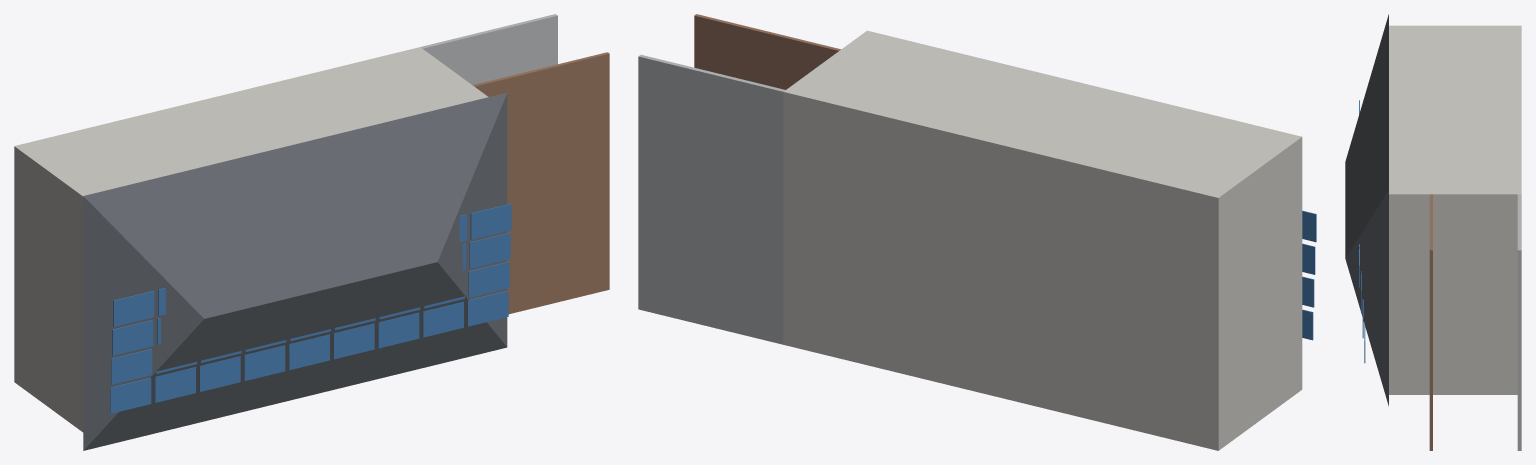
File: generated_39a3fccd7e.glb
3 views of the same model, side by side, from view 1: azimuth 30°, elevation 25°; view 2: azimuth 150°, elevation 25°; view 3: azimuth 270°, elevation 25° (orthographic). The views are drawn at different scales.
Visible parts, largest first — view 1: hip_roof, house_body, front_porch_roof, front_porch_slab, solar_panel_17, solar_panel_26, solar_panel_35, solar_panel_8, solar_panel_27, solar_panel, solar_panel_9, solar_panel_18 (+7 smaller); view 2: house_body, front_porch_slab, front_porch_roof; view 3: house_body, hip_roof, front_porch_slab, front_porch_roof.
Boxes of the visible parts, bbox=[...] form: hip_roof: bbox=[83, 92, 507, 450]; house_body: bbox=[14, 47, 488, 432]; front_porch_roof: bbox=[472, 52, 609, 314]; front_porch_slab: bbox=[420, 14, 557, 84]; solar_panel_17: bbox=[468, 261, 509, 297]; solar_panel_26: bbox=[469, 232, 510, 268]; solar_panel_35: bbox=[470, 203, 511, 239]; solar_panel_8: bbox=[467, 290, 508, 326]; solar_panel_27: bbox=[113, 291, 154, 326]; solar_panel: bbox=[110, 378, 151, 413]; solar_panel_9: bbox=[111, 348, 152, 384]; solar_panel_18: bbox=[112, 319, 153, 355]; house_body: bbox=[783, 30, 1302, 450]; front_porch_slab: bbox=[638, 54, 785, 344]; front_porch_roof: bbox=[694, 14, 840, 89]; house_body: bbox=[1389, 25, 1521, 394]; hip_roof: bbox=[1345, 14, 1388, 406]; front_porch_slab: bbox=[1517, 194, 1521, 450]; front_porch_roof: bbox=[1429, 194, 1432, 450].
Bounding box in the file's own units: 24.4 × 10.8 × 7.97.
